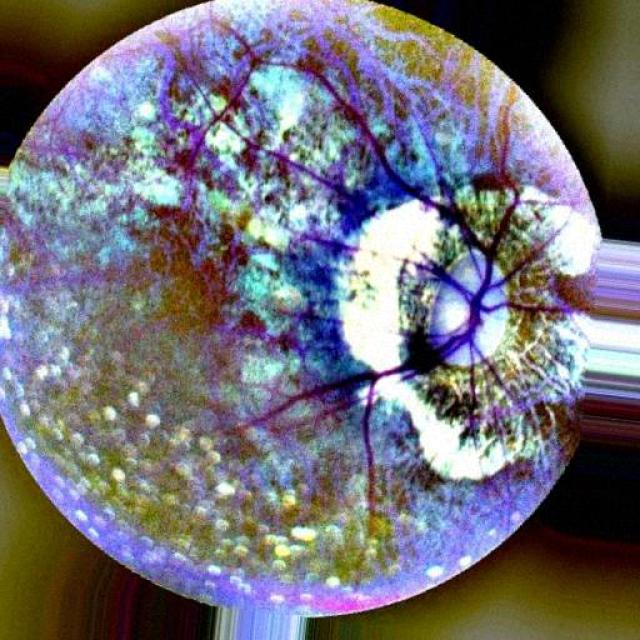Optic Disk: (428, 254, 506, 365)
